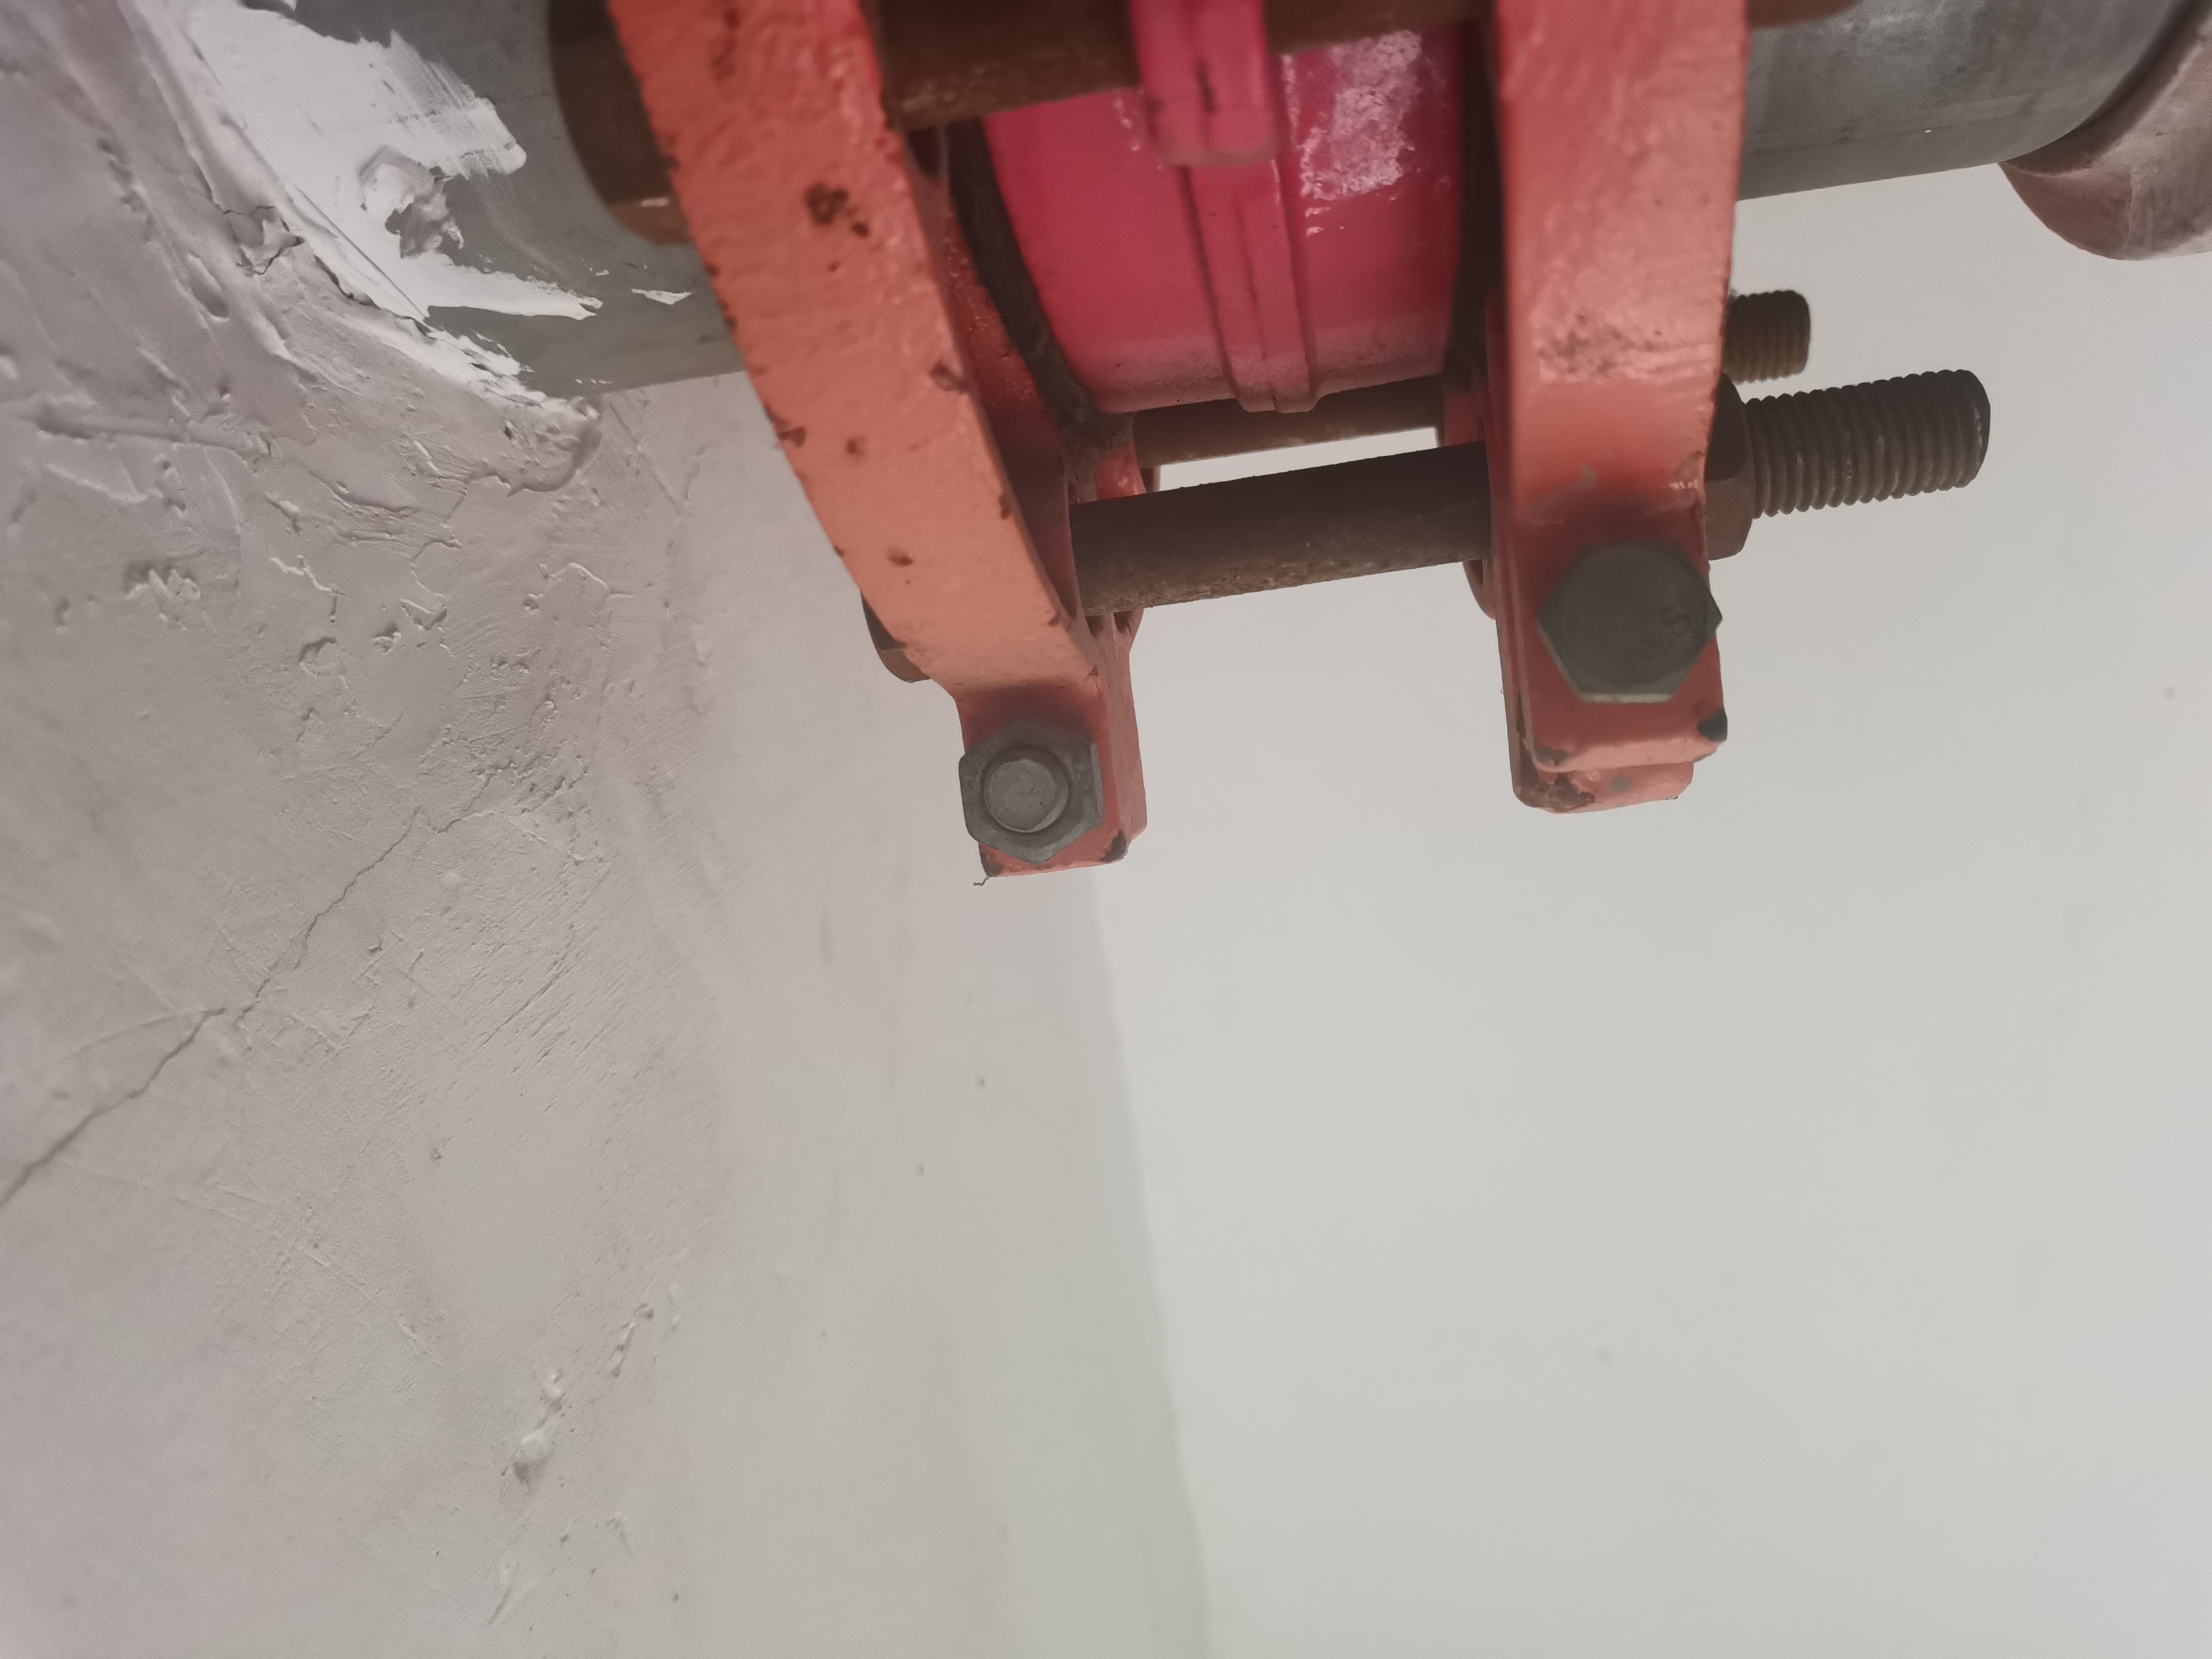bolt_a: (1526, 533, 1726, 708)
bolt_b: (954, 709, 1109, 870)
bolt_c: (1663, 364, 1757, 566)
